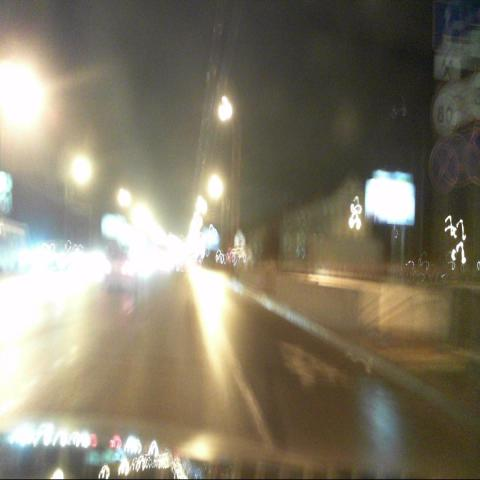8_5_2: (433, 54, 462, 84)
